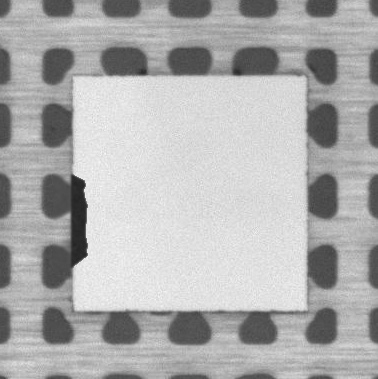DIE_BROKEN: (68, 170, 90, 269)
